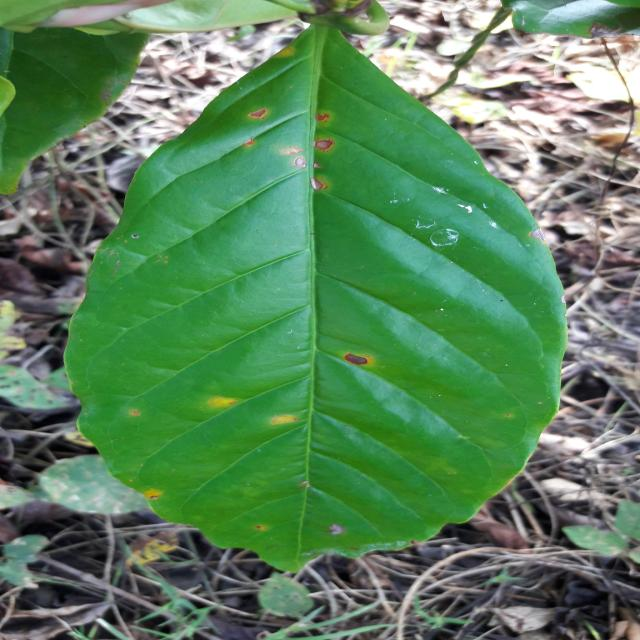Enfermedad-Roya: (66, 29, 568, 575)
